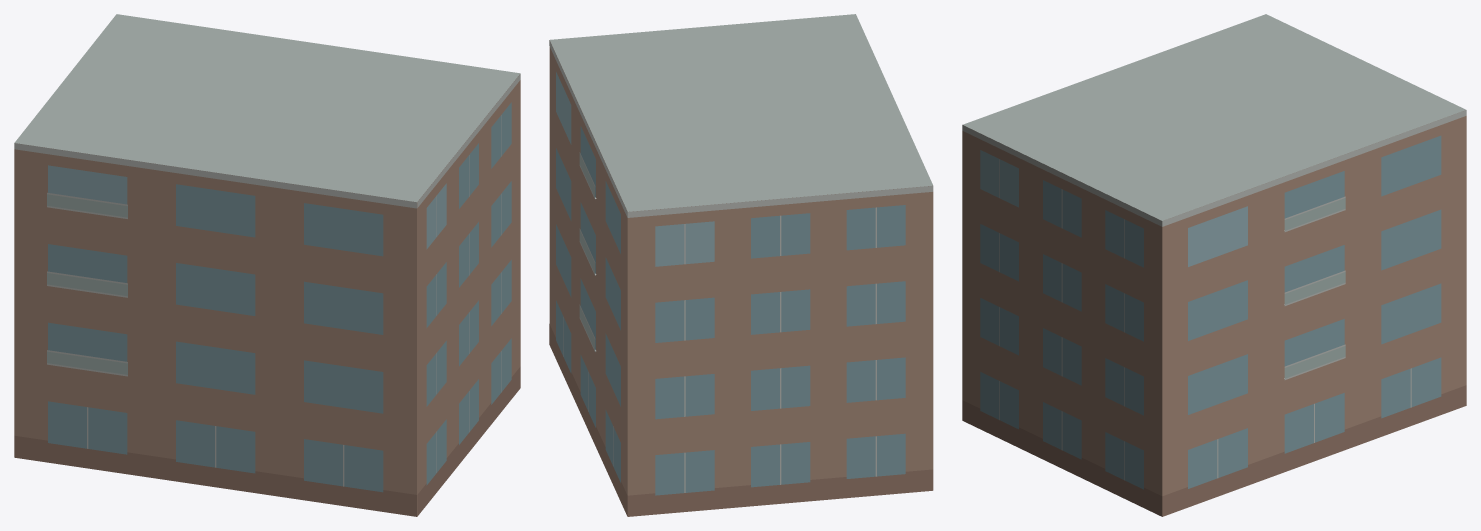
File: survey-upis-32640249.glb
3 views of the same model, side by side, from view 1: azimuth 30°, elevation 25°; view 2: azimuth 150°, elevation 25°; view 3: azimuth 270°, elevation 25° (orthographic). The views are drawn at different scales.
Visible parts, largest first — view 1: survey-upis-32640249.tmp; view 2: survey-upis-32640249.tmp; view 3: survey-upis-32640249.tmp.
Part boxes in pixels (x1,y1,x2,y2): survey-upis-32640249.tmp: (14,14,520,516); survey-upis-32640249.tmp: (549,14,933,516); survey-upis-32640249.tmp: (962,14,1466,516).
Bounding box in the file's own units: 18.31 × 12.2 × 18.85.
